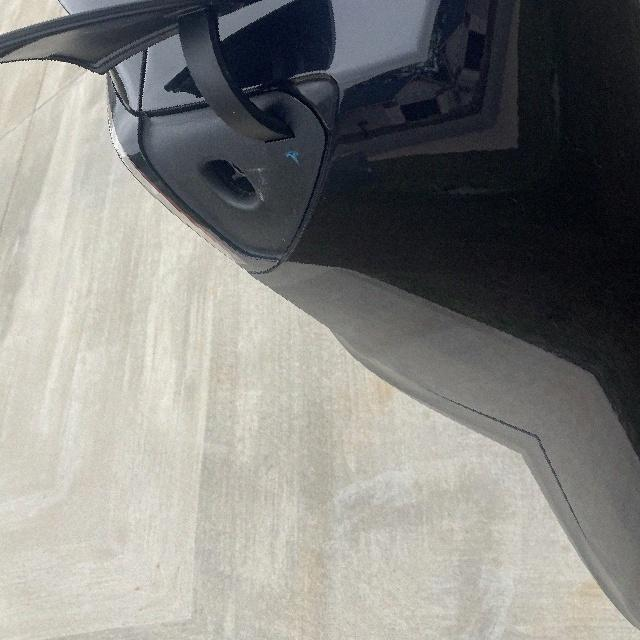Tesla Model-S-: (178, 146, 278, 227)
